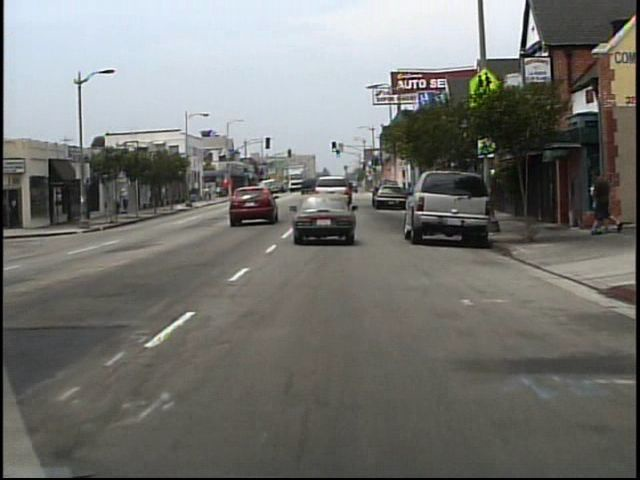person: (592, 165, 620, 235), (588, 172, 611, 233), (123, 186, 134, 214)
